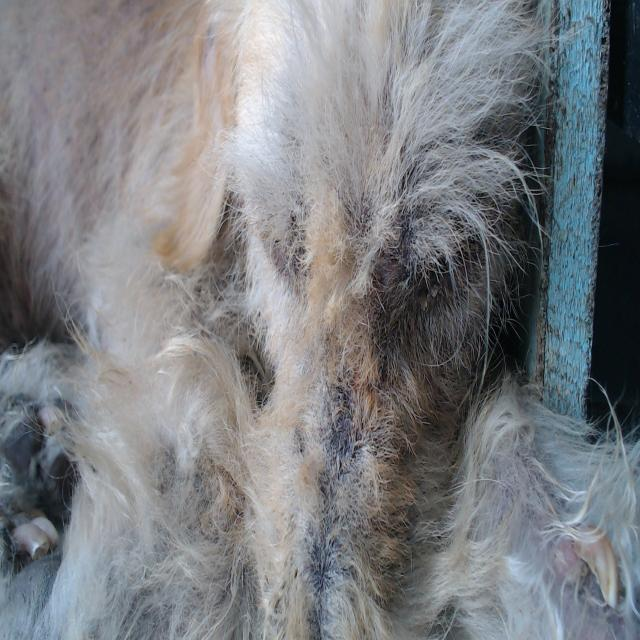demodicosis: (298, 383, 369, 589)
